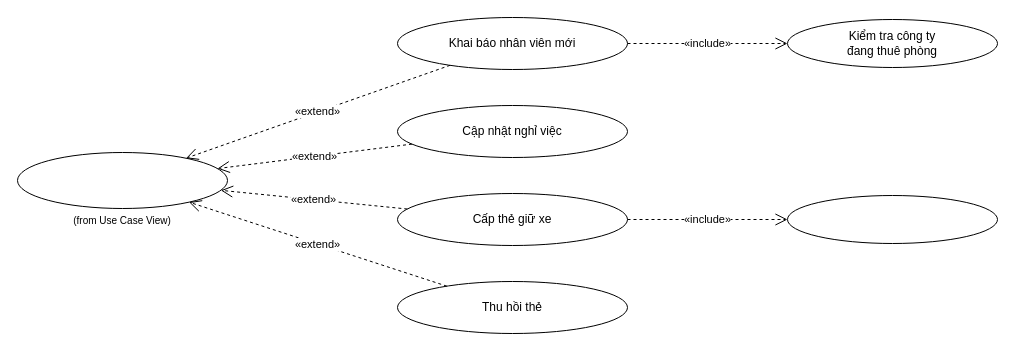
This 1015x351 diagram has some shape labels left out. The shapes that lost their labels are listed below. From the top down, each one's centre as x and y in pixels, then its label:
At [122,180]: "Nhân viên công ty - thẻ xe".
At [892,219]: "Kiểm tra nhân viên đang làm".
